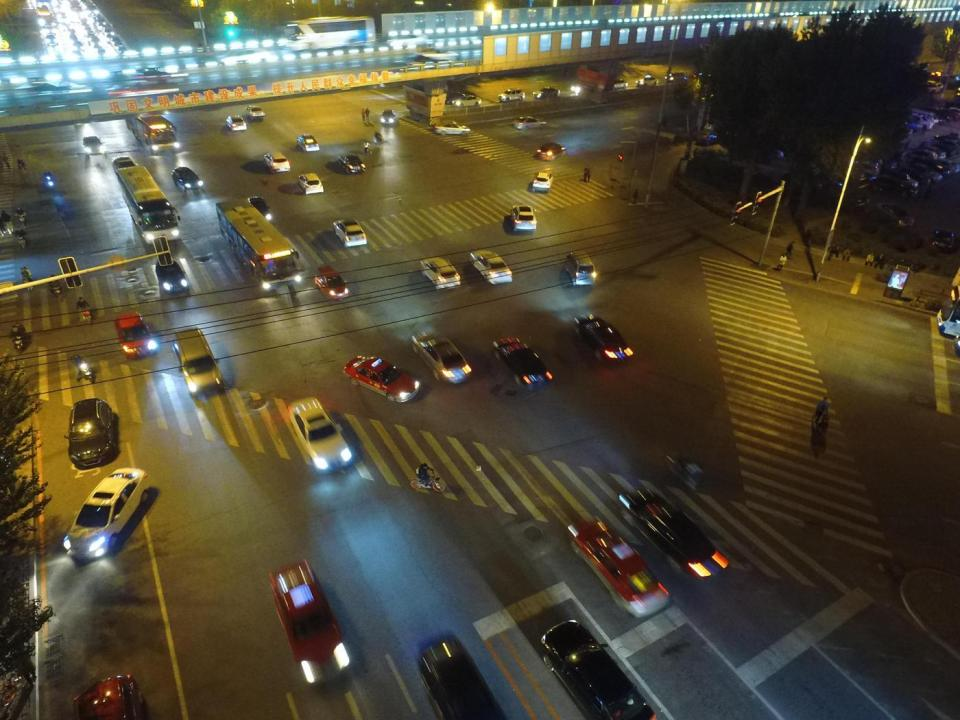bus: (213, 198, 302, 290), (112, 165, 184, 245), (281, 15, 381, 54), (130, 108, 184, 154)
car: (539, 621, 660, 720), (561, 516, 671, 618), (269, 556, 356, 684), (620, 490, 731, 586), (409, 633, 512, 720), (60, 467, 148, 560), (280, 395, 354, 473), (341, 352, 422, 406), (174, 327, 232, 401), (65, 396, 122, 468), (492, 336, 558, 394), (410, 327, 475, 385), (574, 312, 636, 370), (12, 76, 95, 106), (392, 44, 467, 77), (113, 310, 160, 358), (115, 74, 180, 103), (414, 254, 464, 290), (311, 264, 354, 303), (469, 247, 512, 285), (565, 248, 598, 290), (329, 214, 368, 248), (156, 256, 190, 293), (506, 202, 541, 233), (876, 201, 916, 228), (171, 164, 205, 194), (247, 191, 274, 228), (869, 175, 919, 194), (882, 168, 921, 190), (533, 137, 566, 161), (510, 111, 549, 130), (909, 160, 944, 181), (838, 186, 870, 208), (112, 154, 139, 180), (529, 168, 557, 193), (432, 120, 472, 137), (264, 148, 291, 173), (298, 172, 326, 196), (898, 164, 933, 183), (930, 228, 956, 253), (338, 152, 366, 174), (924, 138, 958, 155), (923, 157, 952, 176), (82, 135, 107, 156), (694, 125, 723, 143), (296, 132, 321, 151), (498, 86, 527, 102), (926, 103, 951, 121), (452, 95, 484, 108), (933, 156, 957, 173), (922, 144, 946, 160), (570, 81, 597, 95), (226, 114, 248, 131), (636, 74, 660, 89), (534, 86, 562, 98), (245, 104, 265, 120), (907, 149, 936, 160), (444, 91, 468, 104), (664, 69, 686, 83), (381, 108, 397, 126), (690, 69, 714, 80), (933, 133, 959, 143), (942, 106, 960, 120), (926, 80, 944, 93), (608, 78, 629, 89), (903, 116, 920, 129), (949, 104, 960, 116)
van: (913, 106, 940, 124), (909, 113, 935, 129)
